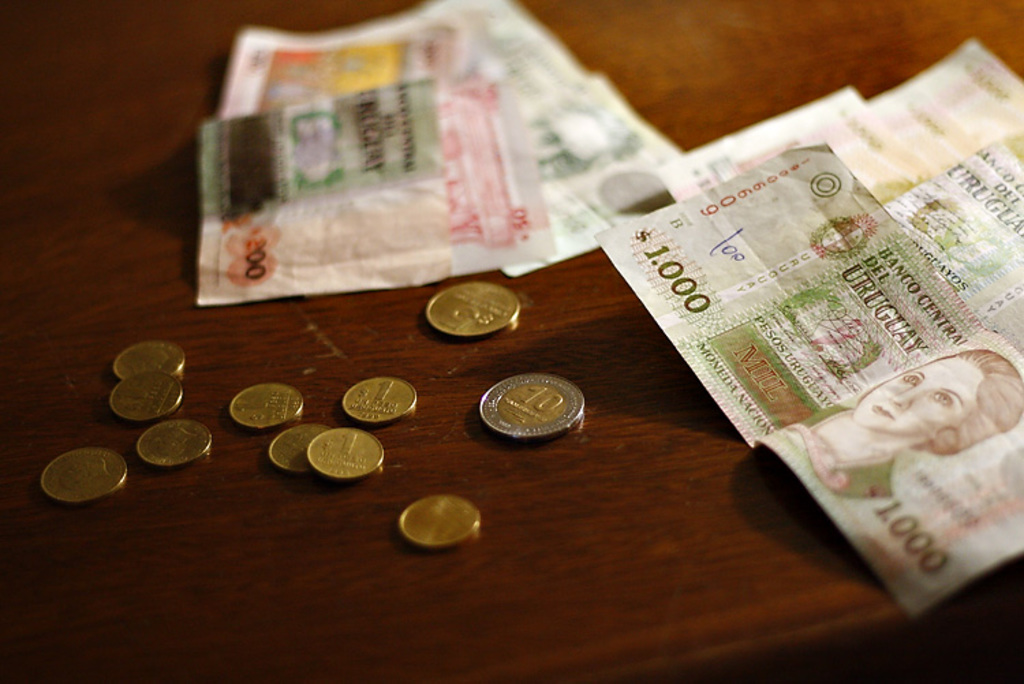Coin: (40, 280, 584, 550)
